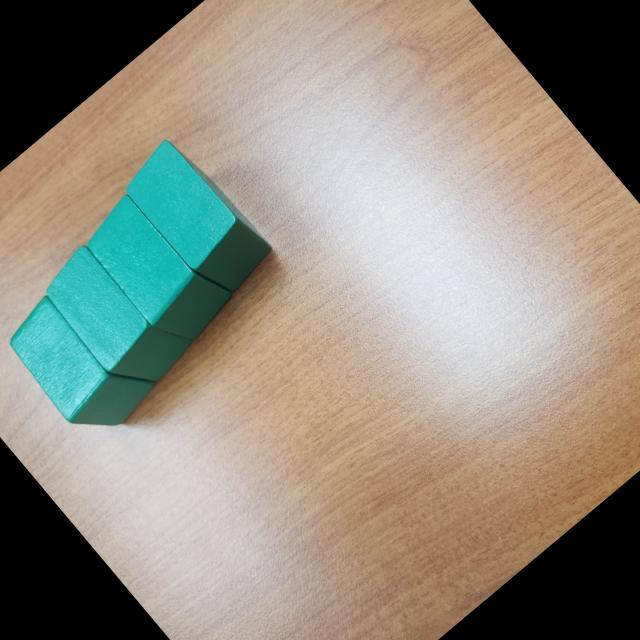green: (34, 230, 200, 404), (74, 180, 240, 354), (115, 129, 280, 304), (0, 275, 162, 450)
